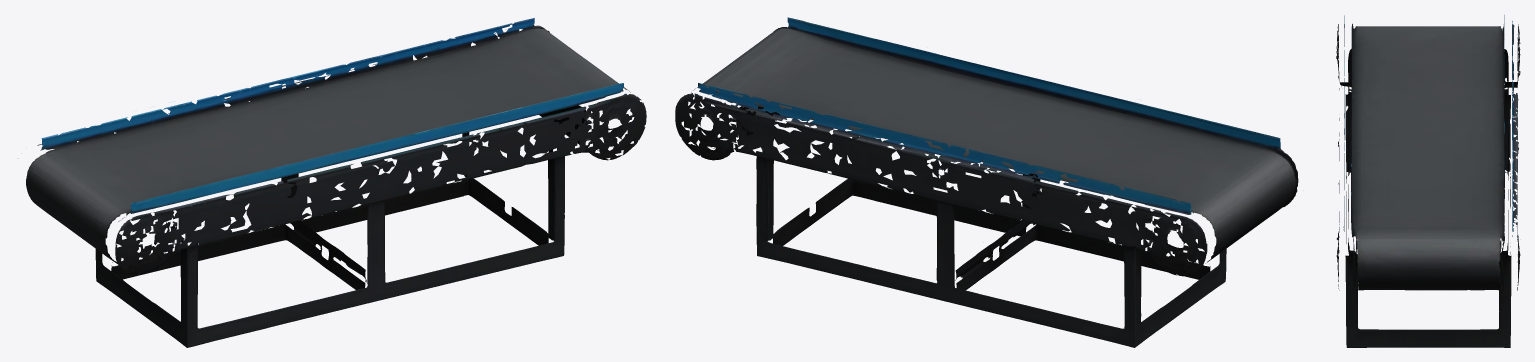
The picture shows the model from 3 angles, left to right: view 1: azimuth 30°, elevation 25°; view 2: azimuth 150°, elevation 25°; view 3: azimuth 270°, elevation 25°; orthographic projection. The views are drawn at different scales.
Parts seen in each view (by area): view 1: geometry_0; view 2: geometry_0; view 3: geometry_0.
Part boxes in pixels (x1,y1,x2,y2): geometry_0: (26,18,646,347); geometry_0: (675,17,1298,347); geometry_0: (1336,15,1520,347).
Size of the model in its own units: 0.9995 by 0.2883 by 0.3342.
1 material, 1 textured.
